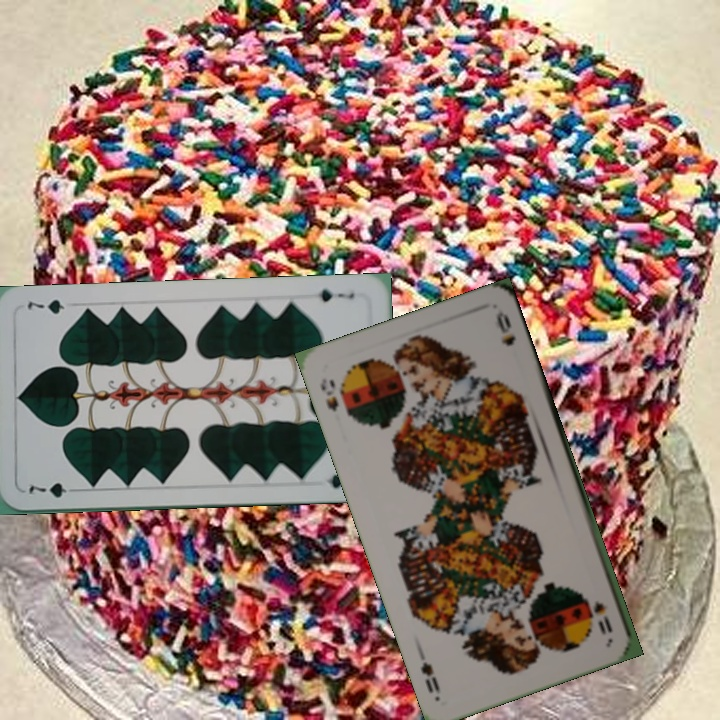G7: (25, 478, 82, 501), (314, 285, 357, 305)
SO: (589, 596, 616, 636), (316, 374, 341, 414)
